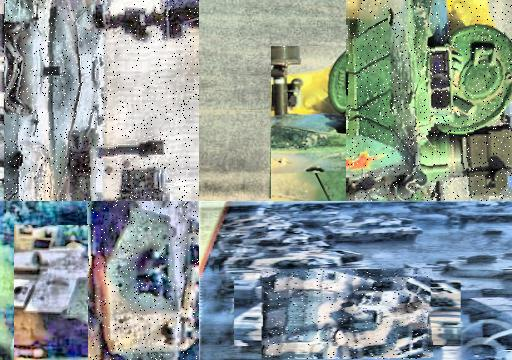tanks: (5, 1, 200, 202), (348, 1, 512, 202), (89, 202, 200, 360), (263, 271, 431, 360), (403, 253, 512, 302), (229, 251, 376, 286), (219, 216, 323, 257), (463, 298, 512, 360), (324, 219, 423, 243), (450, 208, 512, 228)
